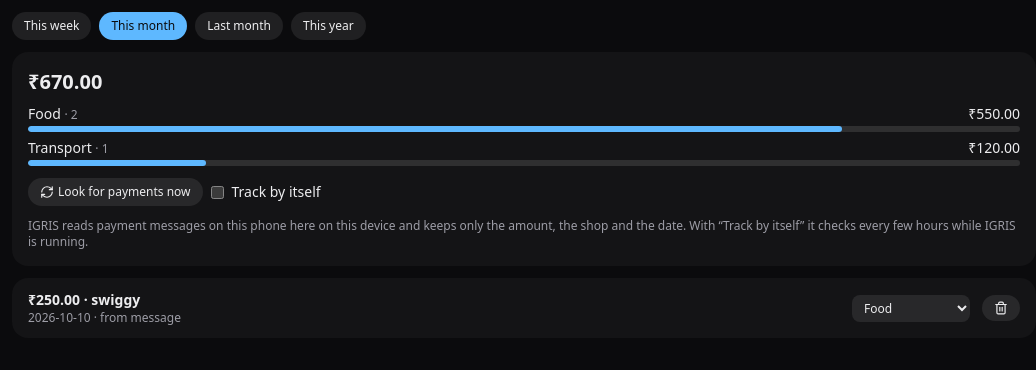
Test case: life › shows totals by category, scans, and fixes a payment
The width and height of the screenshot is (1036, 370).
Later steps or results of the test are not shown.
Expected: the text "₹670.00" is shown, x1=28 y1=68 x2=102 y2=95
Expected: the text "₹550.00" is shown, x1=968 y1=104 x2=1020 y2=124
Click the button "Look for payments now". click: (115, 192)
box: x1=28 y1=178 x2=202 y2=206
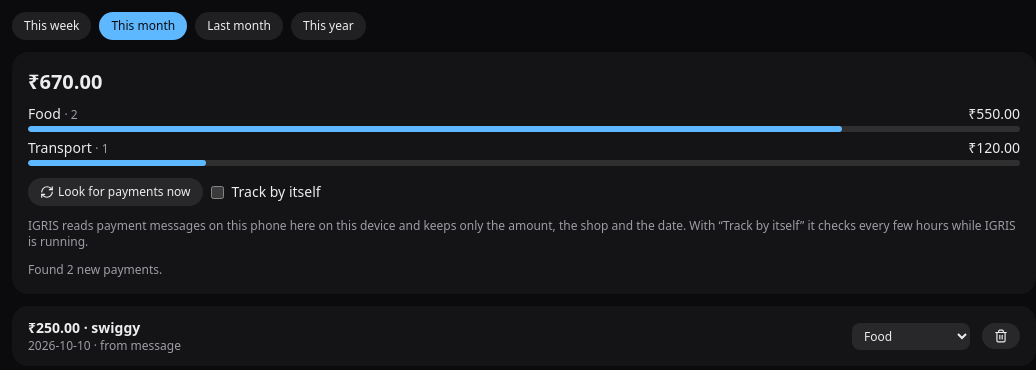
Result: the text "Found 2 new payments." is shown at x1=28 y1=261 x2=162 y2=278
